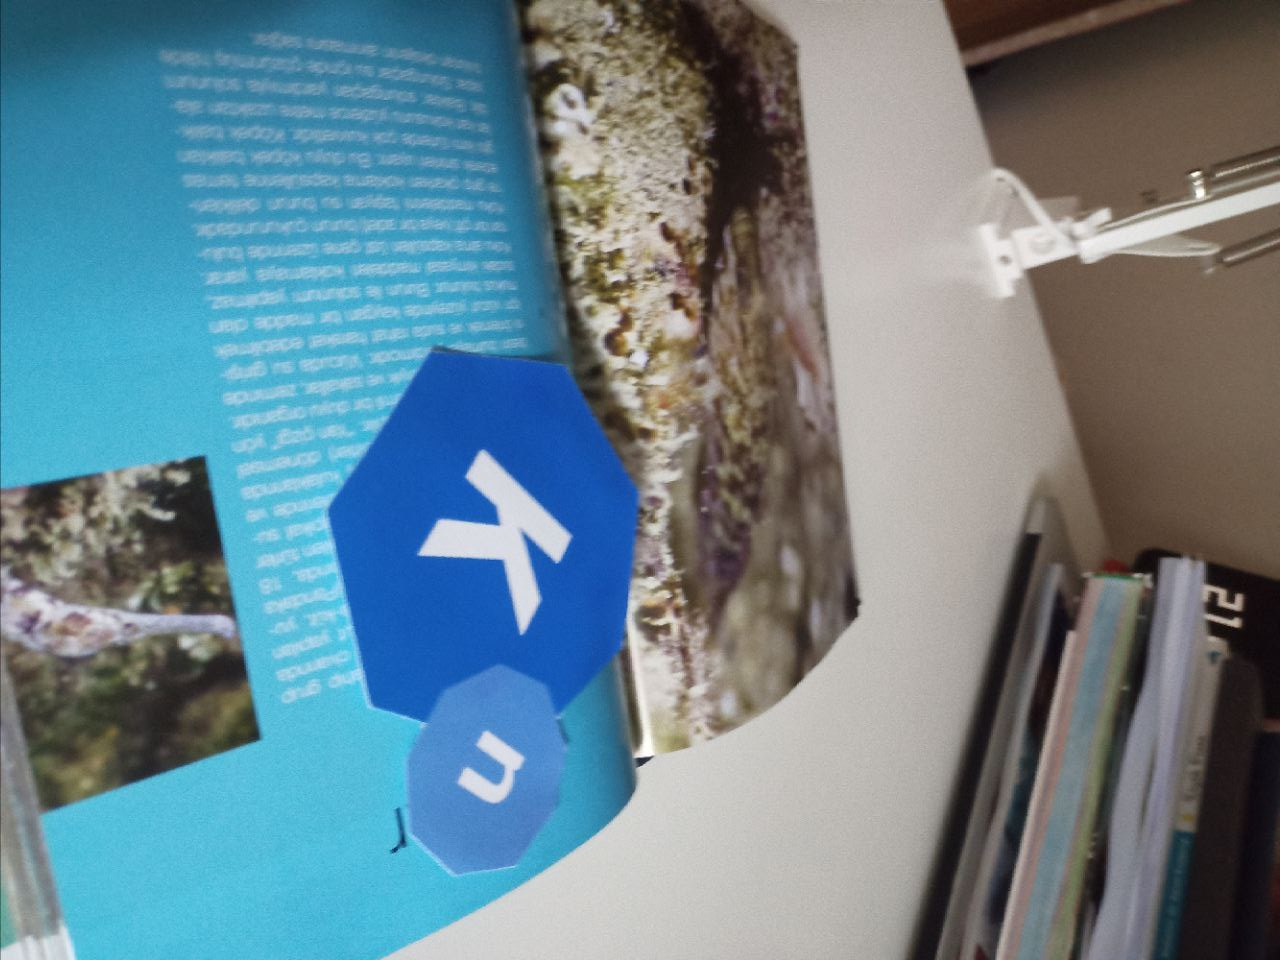knative: (326, 343, 640, 877)
